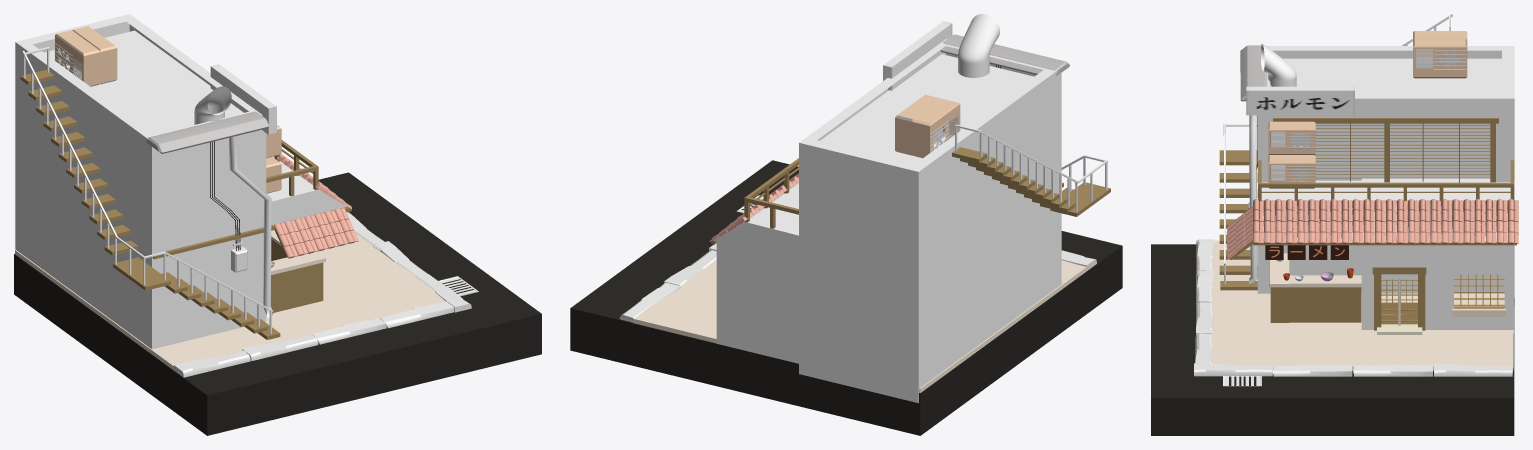
File: MainBuild.fbx
The picture shows the model from 3 angles, left to right: view 1: azimuth 30°, elevation 25°; view 2: azimuth 150°, elevation 25°; view 3: azimuth 270°, elevation 25°; orthographic projection. The views are drawn at different scales.
Parts seen in each view (by area): view 1: TallSection, StreetFloor, BuildingFoundation, RoofFlooring, RoofEdge, BarBase3, BalconyFloor, Vent, TopAdvertBoard, Pipe, Vent1, RoofOutPipe (+10 smaller); view 2: TallSection, StreetFloor, SmallSection, RoofFlooring, BuildingFoundation, BalconyFloor, Vent, RoofOutPipe, TopAdvertBoard, RoofEdge, Vent1, Stair9 (+2 smaller); view 3: StreetFloor, TallSection, BuildingFoundation, SmallSection, RoofFlooring, BalconyFloor, BarBase3, TopAdvertBoard, Vent1, Vent3, Vent2, BarBase4 (+26 smaller).
Part boxes in pixels (left/top/right/bottom): TallSection: left=15, top=14, right=266, bottom=349; StreetFloor: left=14, top=172, right=541, bottom=435; BuildingFoundation: left=15, top=222, right=445, bottom=373; RoofFlooring: left=44, top=30, right=243, bottom=134; RoofEdge: left=145, top=111, right=268, bottom=153; BarBase3: left=271, top=238, right=323, bottom=312; BalconyFloor: left=266, top=156, right=346, bottom=225; Vent: left=54, top=30, right=100, bottom=86; TopAdvertBoard: left=210, top=64, right=276, bottom=134; Pipe: left=229, top=136, right=273, bottom=317; Vent1: left=72, top=26, right=117, bottom=84; RoofOutPipe: left=194, top=86, right=231, bottom=124; TallSection: left=799, top=39, right=1061, bottom=403; StreetFloor: left=570, top=160, right=1122, bottom=435; SmallSection: left=716, top=240, right=798, bottom=363; RoofFlooring: left=820, top=54, right=1033, bottom=163; BuildingFoundation: left=633, top=259, right=1090, bottom=392; BalconyFloor: left=715, top=182, right=801, bottom=260; Vent: left=912, top=99, right=960, bottom=158; RoofOutPipe: left=958, top=14, right=999, bottom=77; TopAdvertBoard: left=883, top=21, right=952, bottom=90; RoofEdge: left=940, top=34, right=1069, bottom=76; Vent1: left=895, top=94, right=942, bottom=155; Stair9: left=1050, top=182, right=1110, bottom=216; StreetFloor: left=1151, top=244, right=1514, bottom=435; TallSection: left=1257, top=46, right=1514, bottom=305; BuildingFoundation: left=1210, top=240, right=1513, bottom=370; SmallSection: left=1361, top=178, right=1513, bottom=333; RoofFlooring: left=1283, top=58, right=1501, bottom=93; BalconyFloor: left=1257, top=180, right=1514, bottom=241; BarBase3: left=1270, top=287, right=1361, bottom=322; TopAdvertBoard: left=1246, top=86, right=1354, bottom=115; Vent1: left=1413, top=38, right=1467, bottom=78; Vent3: left=1268, top=121, right=1315, bottom=154; Vent2: left=1268, top=155, right=1315, bottom=188; BarBase4: left=1269, top=253, right=1361, bottom=287.
Bounding box in the file's own units: 21.51 × 16.44 × 20.26.
